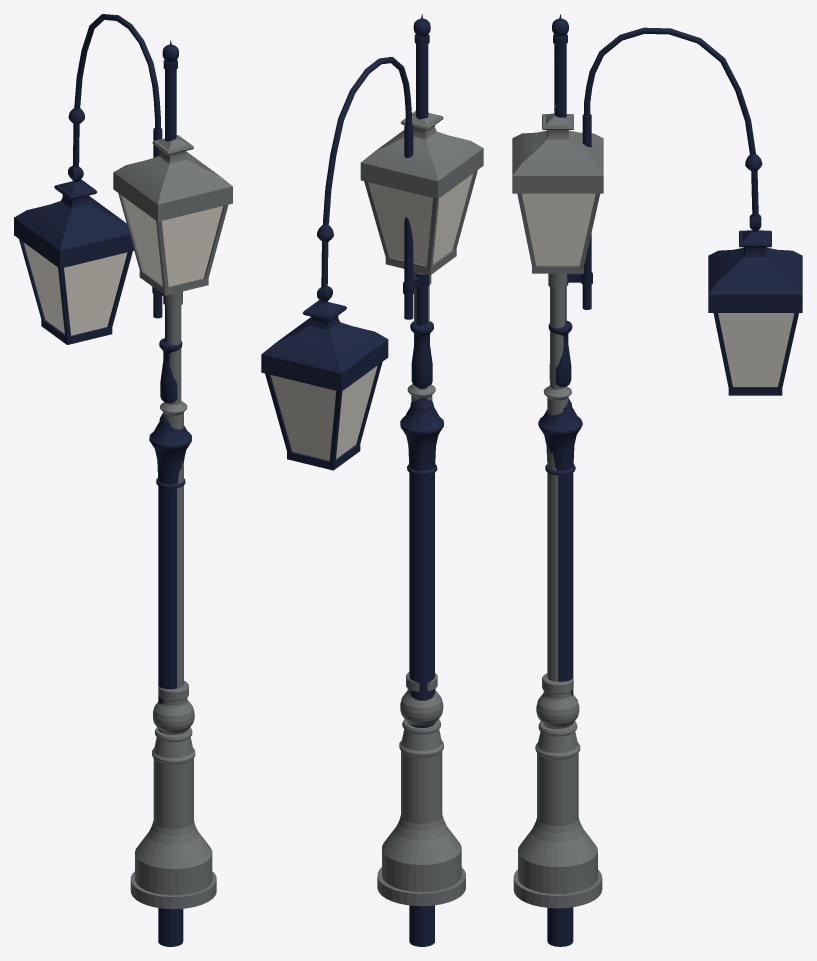
The model's file is lamps2.fbx.
The picture shows the model from 3 angles, left to right: view 1: azimuth 30°, elevation 25°; view 2: azimuth 150°, elevation 25°; view 3: azimuth 270°, elevation 25°; orthographic projection. The views are drawn at different scales.
Parts seen in each view (by area): view 1: Cylinder, Cylinder.003; view 2: Cylinder.003, Cylinder; view 3: Cylinder, Cylinder.003.
Part boxes in pixels (<box>): Cylinder: <box>113,127,232,909</box>; Cylinder.003: <box>14,14,191,946</box>; Cylinder.003: <box>261,14,443,946</box>; Cylinder: <box>360,111,483,906</box>; Cylinder: <box>512,104,603,908</box>; Cylinder.003: <box>538,14,802,946</box>.
Bounding box in the file's own units: 43.95 × 485 × 138.
